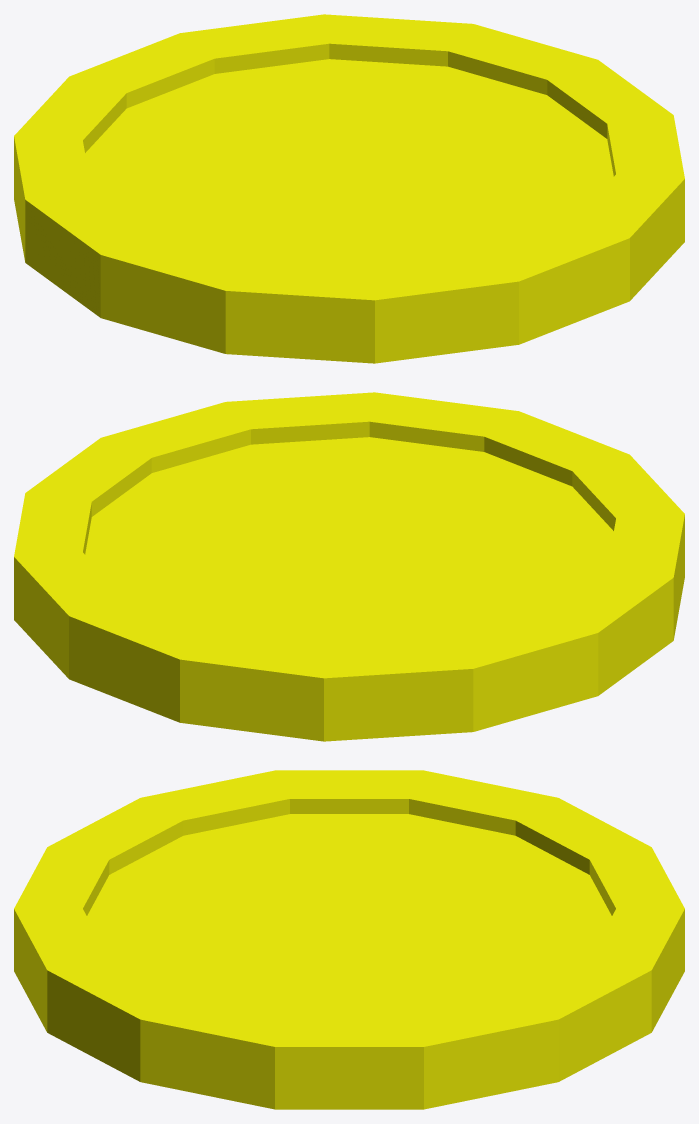
The model's file is Coin.fbx.
The picture shows the model from 3 angles, top to bottom: view 1: azimuth 30°, elevation 25°; view 2: azimuth 150°, elevation 25°; view 3: azimuth 270°, elevation 25°; orthographic projection.
Visible parts, largest first — view 1: Coin; view 2: Coin; view 3: Coin.
Boxes of the visible parts, x1,y1,x2,y2 form: Coin: (14, 14, 684, 363); Coin: (14, 392, 684, 741); Coin: (14, 770, 684, 1109).
Size of the model in its own units: 1.95 by 0.2057 by 2.
